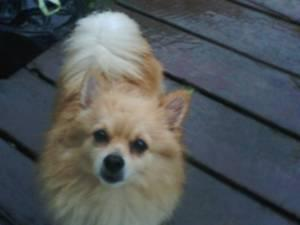dog-pomeranian: (74, 59, 189, 186)
